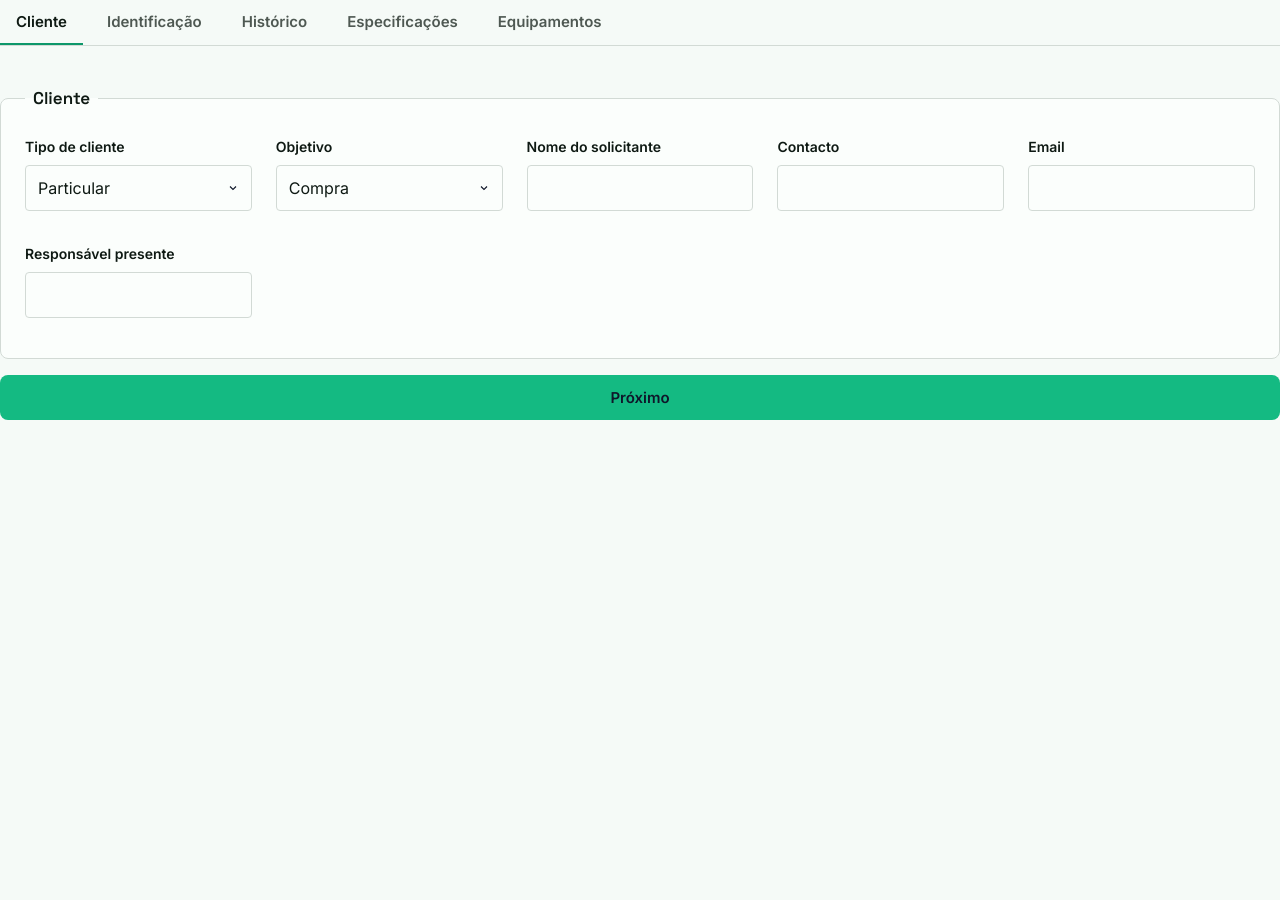
Scenario: NewInspectionForm › shows the importação block only when 'Veículo importado?' is 'Sim'
The width and height of the screenshot is (1280, 900).
Click the tab "Histórico".
click(274, 22)  # box [226,0,323,45]
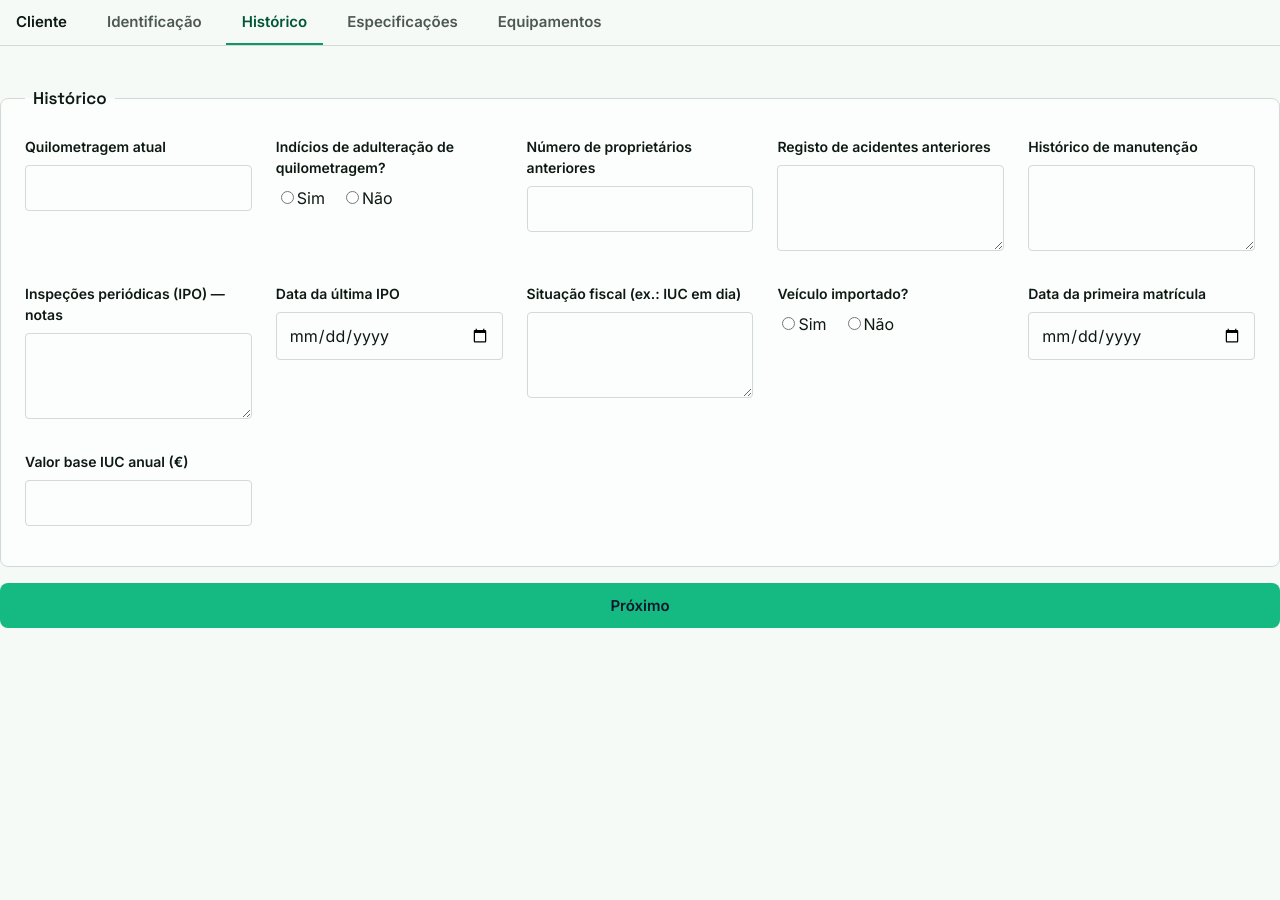
Check: the field labelled "País de origem / importação" is not shown
Click the radio button with aria-label "Sim (Veículo importado?)".
click(789, 323)  # box [782,316,795,330]
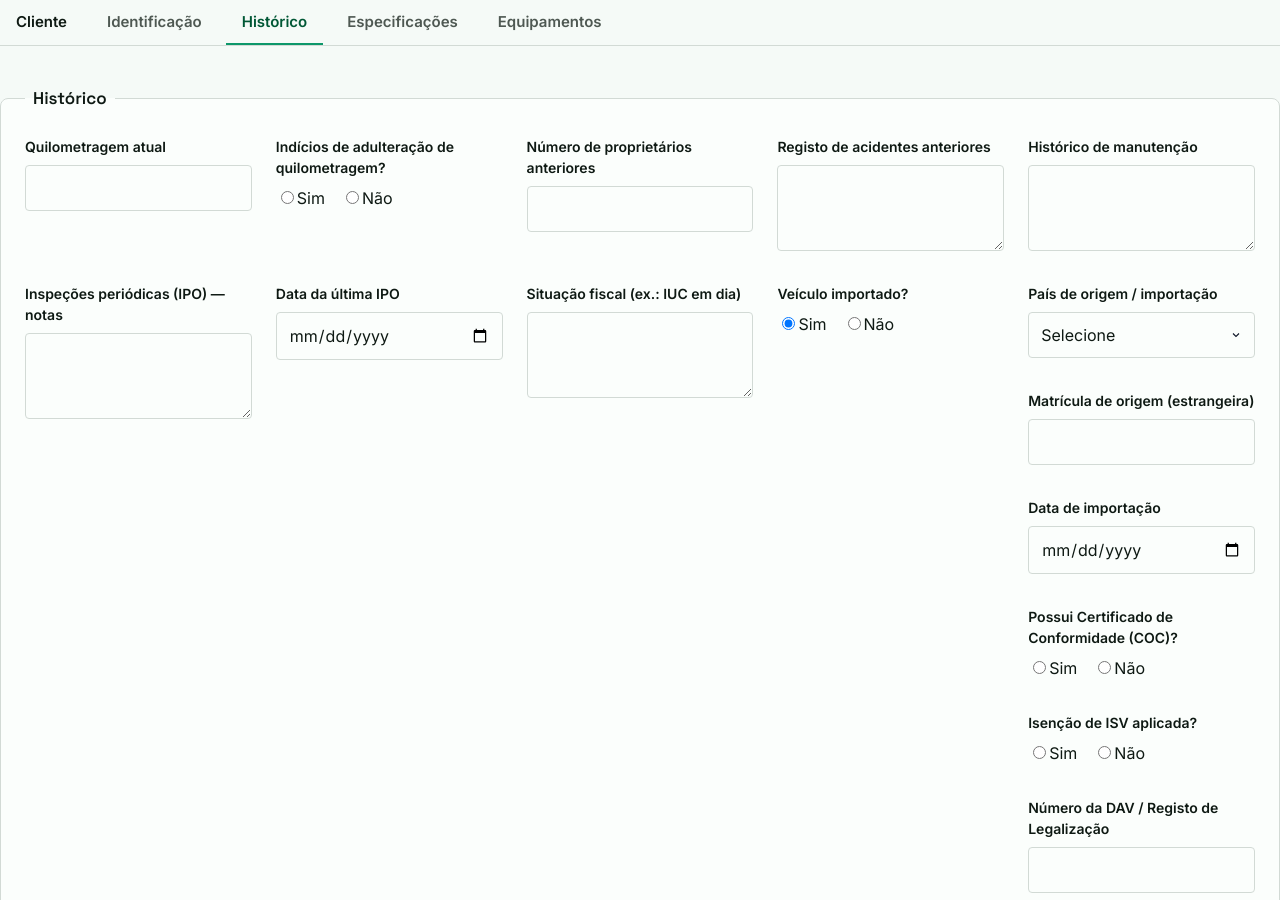
Check: the dropdown labelled "País de origem / importação" is shown, box [1028,312,1255,358]
Check: the field labelled "Matrícula de origem (estrangeira)" is shown, box [1028,418,1255,464]
Check: the date field labelled "Data de importação" is shown, box [1028,526,1255,574]
Click the radio button with aria-label "Não (Veículo importado?)".
click(854, 323)  # box [848,316,860,330]
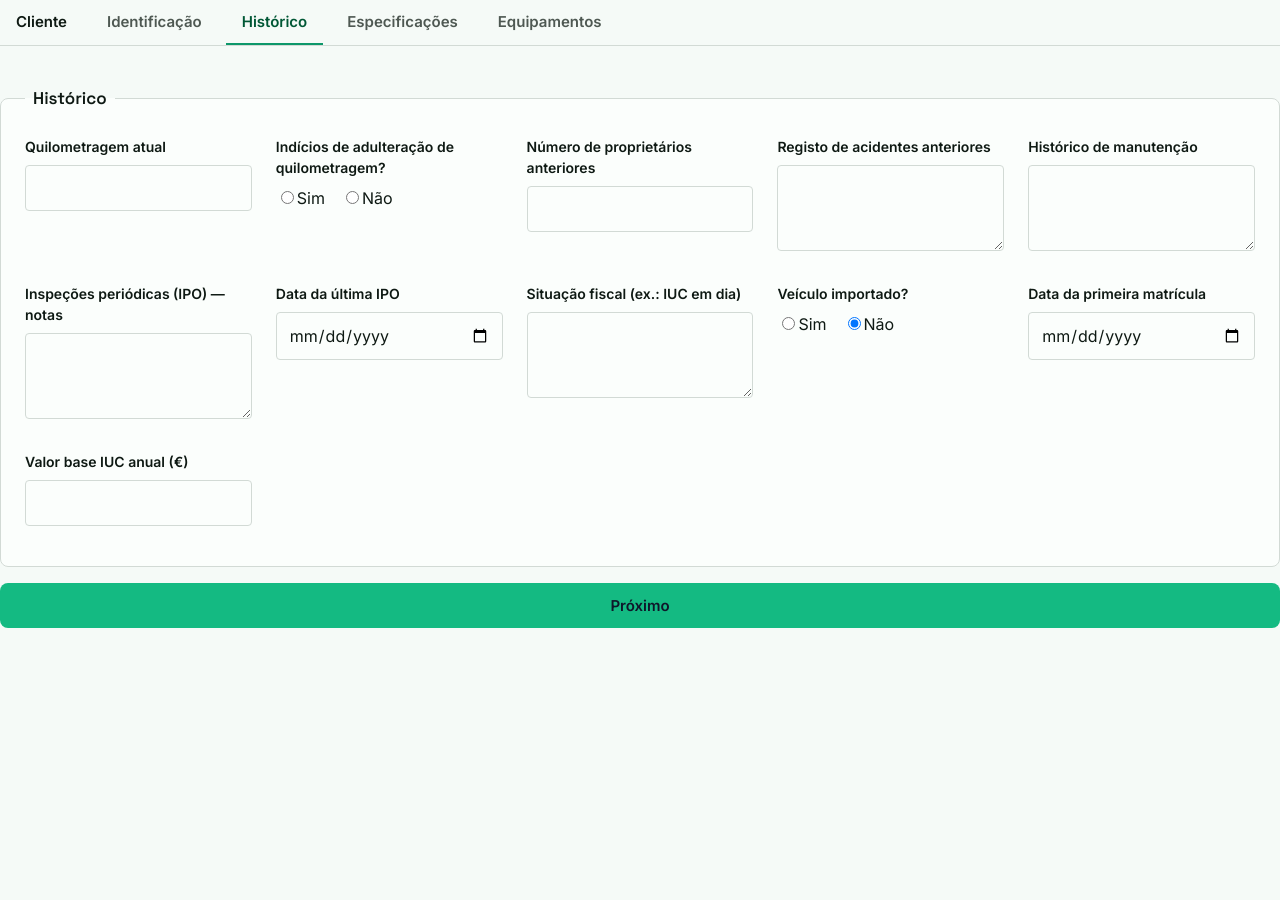
Check: the label labelled "País de origem / importação" is gone
